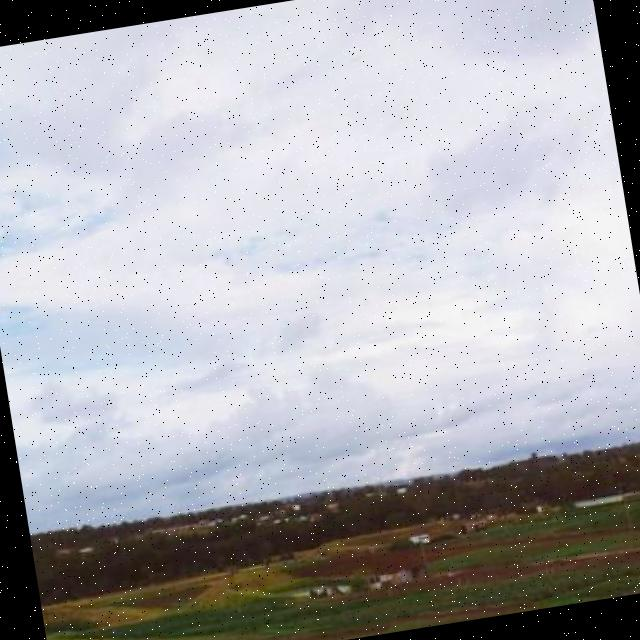Cs: (1, 1, 640, 474)
